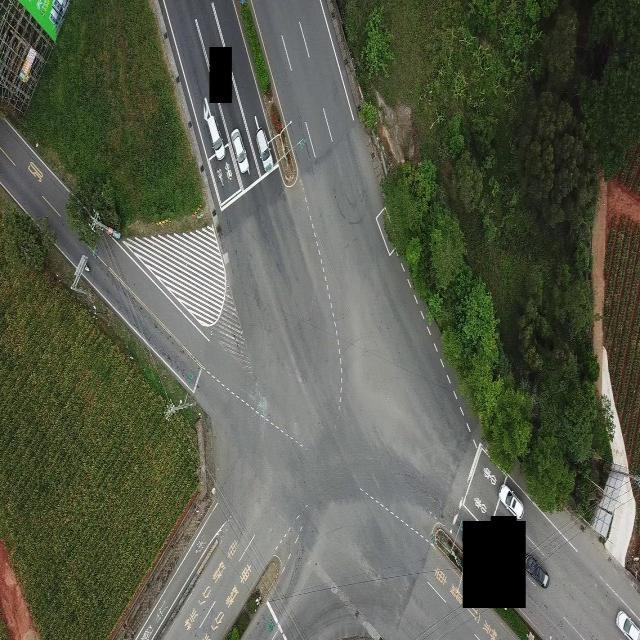car: (205, 103, 224, 160), (497, 482, 524, 519), (230, 127, 249, 176), (255, 126, 273, 171), (615, 608, 639, 639), (530, 555, 550, 587)
